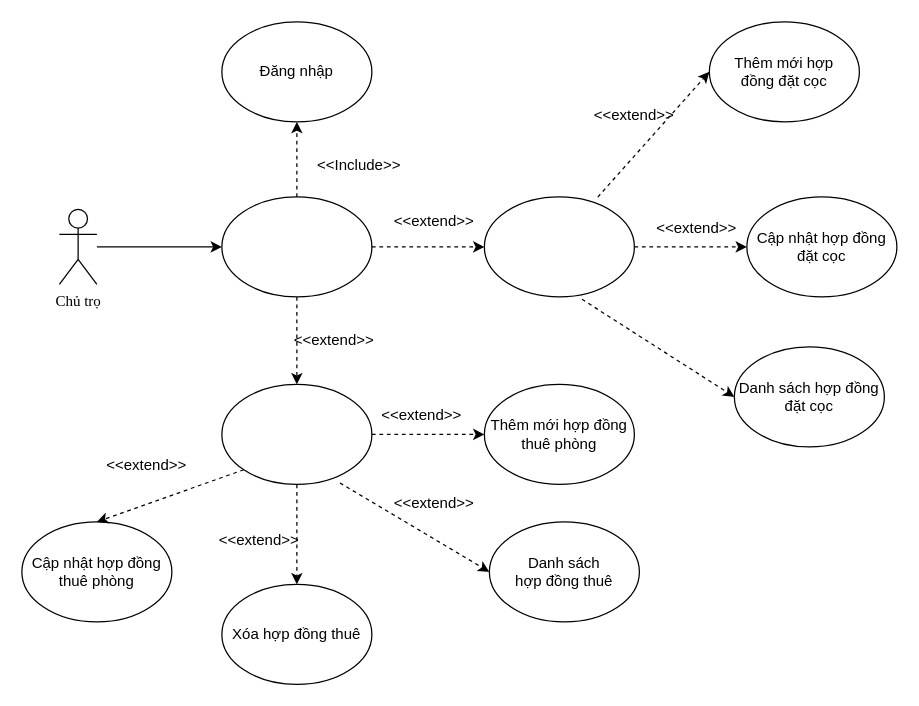
This 919x706 diagram has some shape labels left out. The centre of each missing label's shape, as x and y in pixels:
"Hợp đồng thuê phòng" belongs at point 296,433.
"Hợp đồng đặt cọc" belongs at point 558,246.
"Quản lý hợp đồng" belongs at point 296,246.
